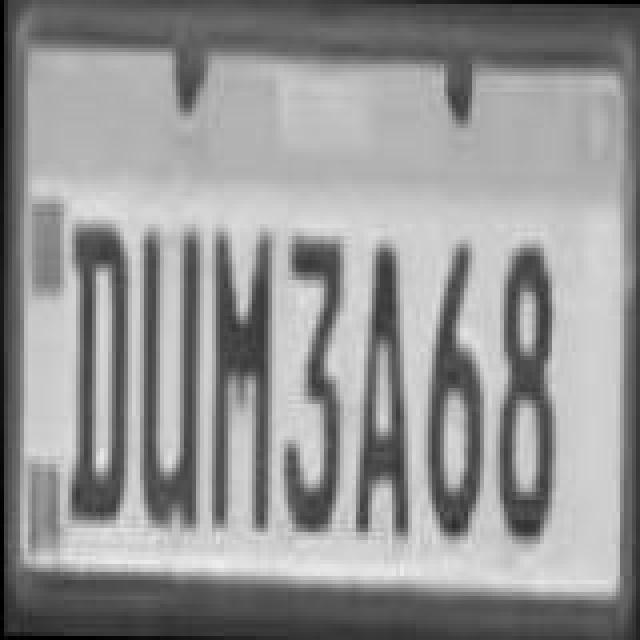3: (280, 228, 344, 540)
6: (422, 234, 490, 538)
8: (490, 236, 558, 548)
A: (352, 238, 416, 542)
D: (66, 216, 130, 528)
M: (206, 226, 274, 538)
U: (136, 226, 200, 538)
